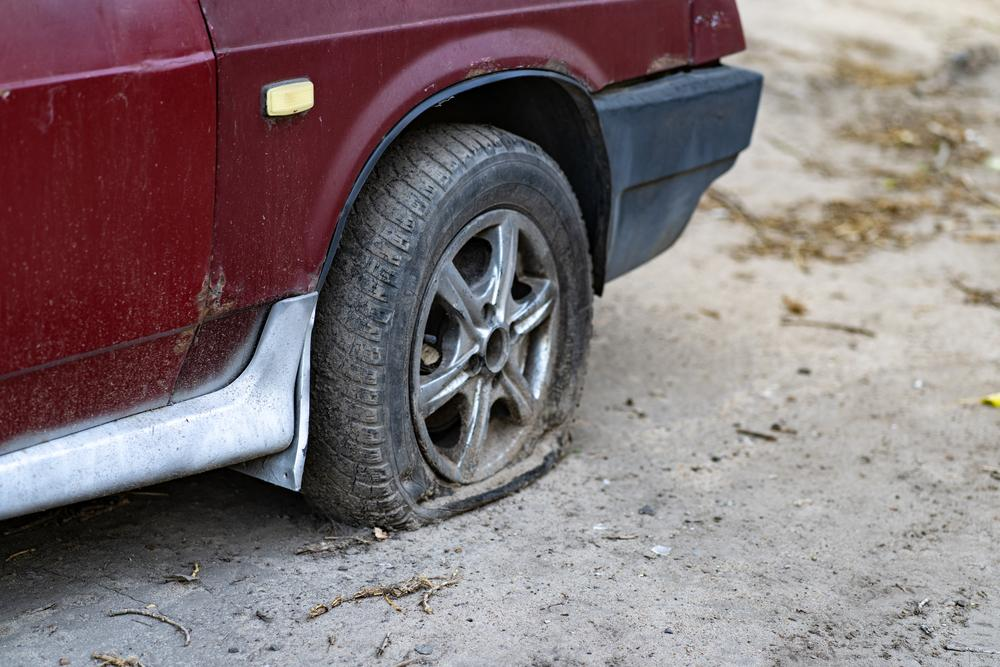tire flat: (305, 121, 591, 532)
